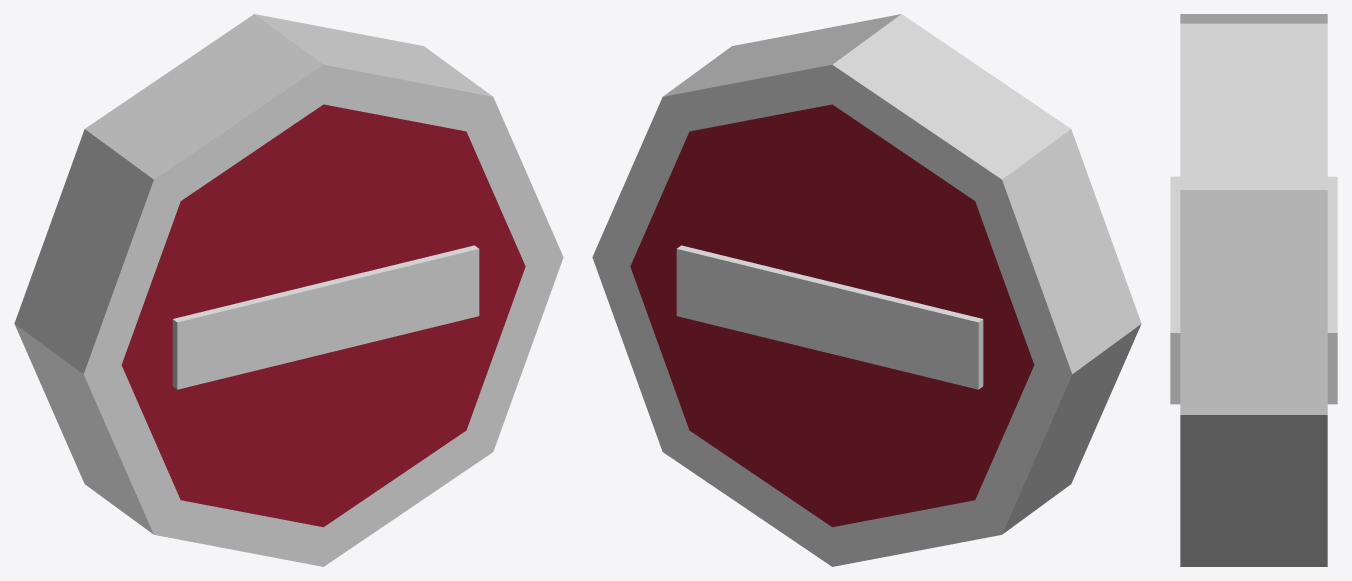
Rendered from TB_CITY_Prop_Sign_A.FBX.
The picture shows the model from 3 angles, left to right: view 1: azimuth 30°, elevation 25°; view 2: azimuth 150°, elevation 25°; view 3: azimuth 270°, elevation 25°; orthographic projection. The views are drawn at different scales.
Parts seen in each view (by area): view 1: TB_CITY_Prop_Sign_A; view 2: TB_CITY_Prop_Sign_A; view 3: TB_CITY_Prop_Sign_A.
Part boxes in pixels (x1,y1,x2,y2): TB_CITY_Prop_Sign_A: [14, 14, 563, 566]; TB_CITY_Prop_Sign_A: [592, 14, 1141, 566]; TB_CITY_Prop_Sign_A: [1170, 14, 1337, 566].
Size of the model in its own units: 1.21 by 1.21 by 0.3425.
